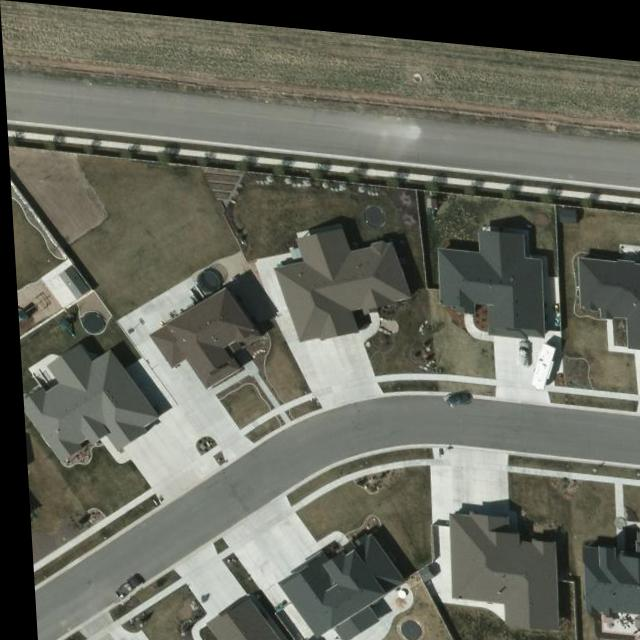vehicle: (104, 570, 138, 604), (439, 380, 469, 399), (513, 329, 528, 359)
